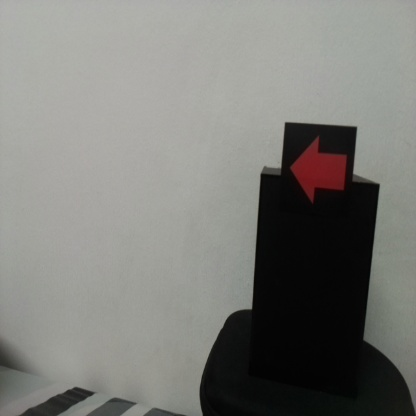id_4: (284, 123, 355, 224)
